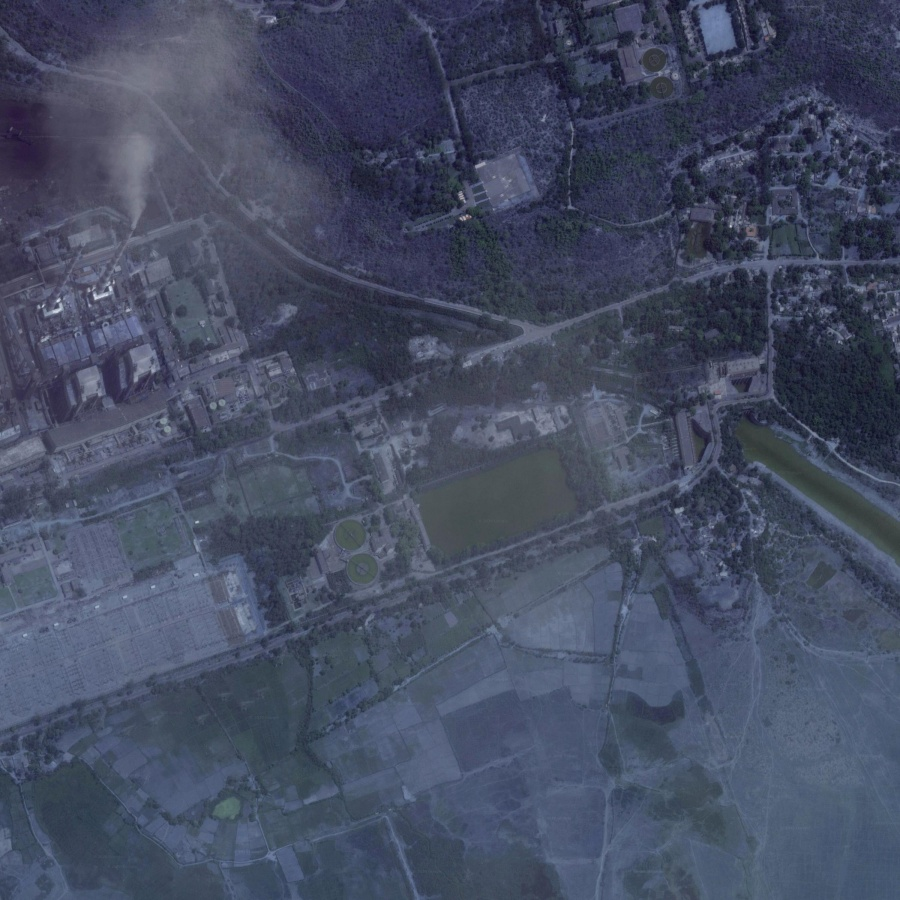PowerPlant: (404, 427, 586, 575)
